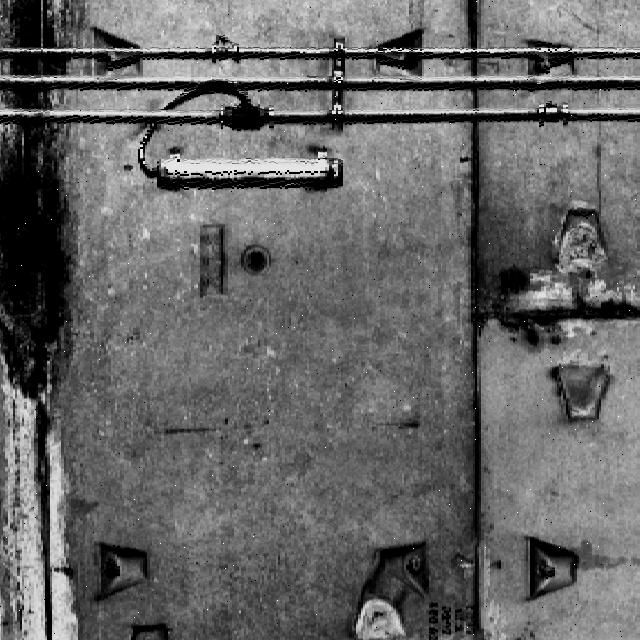leakage: (1, 1, 87, 640)
